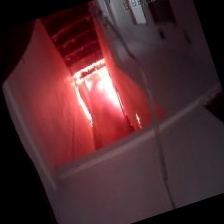fire: (68, 58, 129, 133)
